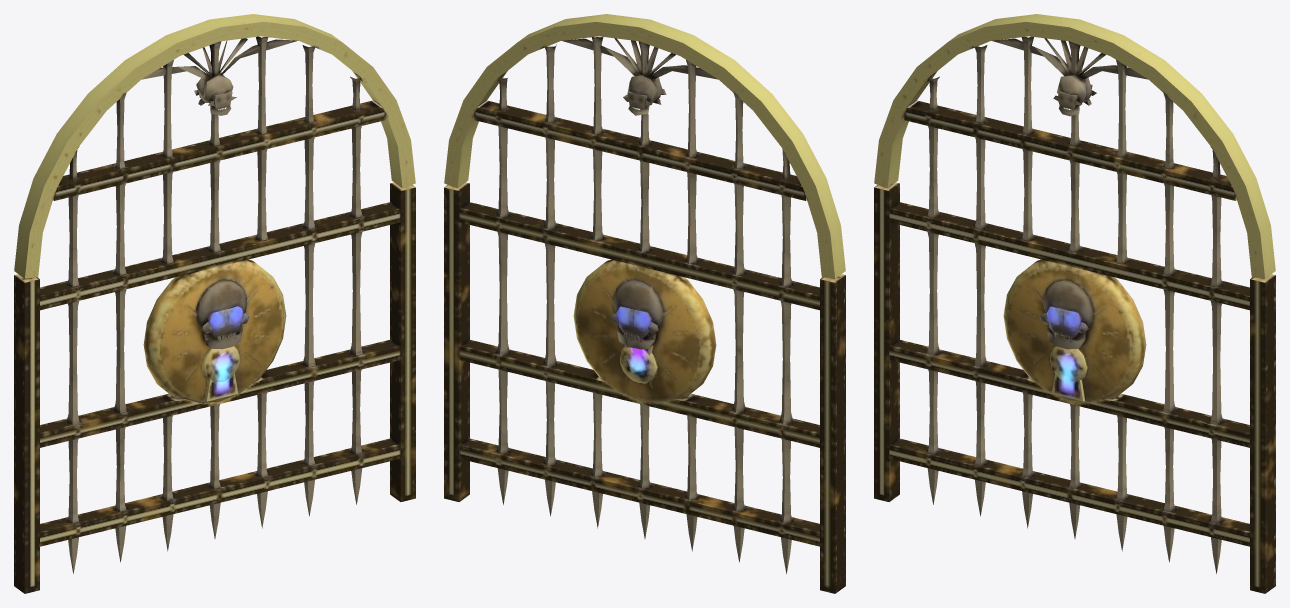
Rendered from bone_gate.glb.
3 views of the same model, side by side, from view 1: azimuth 30°, elevation 25°; view 2: azimuth 150°, elevation 25°; view 3: azimuth 330°, elevation 25° (orthographic).
Parts seen in each view (by area): view 1: bone_gate; view 2: bone_gate; view 3: bone_gate.
Part boxes in pixels (x1,y1,x2,y2): bone_gate: (14, 14, 415, 593); bone_gate: (444, 14, 845, 593); bone_gate: (874, 14, 1275, 593).
Bounding box in the file's own units: 2.32 × 2.94 × 0.2626.
Materials: 1 (1 with a texture image).
